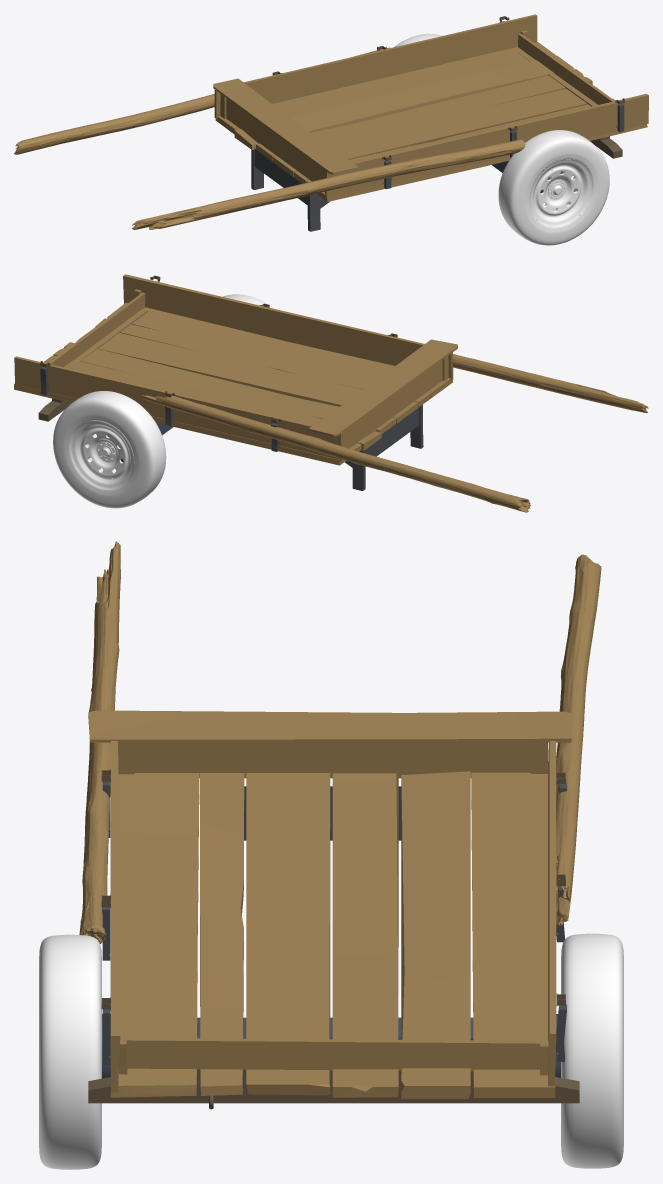
Rendered from karita.glb.
3 views of the same model, one above another, from view 1: azimuth 30°, elevation 25°; view 2: azimuth 150°, elevation 25°; view 3: azimuth 270°, elevation 25° (orthographic). The views are drawn at different scales.
Visible parts, largest first — view 1: body_1, Plane.001, body_3, body_2, body_5, wood_stick_04, wood_stick_04.001, body_4, base_3, base_4.001, base_4; view 2: body_1, Plane.003, body_2, body_5, body_3, wood_stick_04.001, wood_stick_04, body_4, base_3, base_4.001, base_4; view 3: body_1, body_5, Plane.001, Plane.003, body_4, wood_stick_04, wood_stick_04.001, base_4, body_3, body_2, base_4.001.
Part boxes in pixels (x1=…): body_1: x1=215, y1=42, x2=647, y2=201; Plane.001: x1=498, y1=130, x2=609, y2=245; body_3: x1=214, y1=14, x2=537, y2=118; body_2: x1=325, y1=94, x2=648, y2=198; body_5: x1=213, y1=78, x2=358, y2=192; wood_stick_04: x1=132, y1=139, x2=525, y2=229; wood_stick_04.001: x1=14, y1=47, x2=389, y2=154; body_4: x1=517, y1=30, x2=614, y2=106; base_3: x1=251, y1=149, x2=329, y2=231; base_4.001: x1=384, y1=21, x2=624, y2=189; base_4: x1=590, y1=136, x2=622, y2=158; body_1: x1=14, y1=302, x2=452, y2=465; Plane.003: x1=53, y1=391, x2=166, y2=508; body_2: x1=123, y1=274, x2=453, y2=380; body_5: x1=308, y1=339, x2=457, y2=448; body_3: x1=14, y1=356, x2=343, y2=462; wood_stick_04.001: x1=140, y1=395, x2=530, y2=512; wood_stick_04: x1=452, y1=354, x2=648, y2=412; body_4: x1=49, y1=289, x2=147, y2=367; base_3: x1=345, y1=404, x2=423, y2=490; base_4.001: x1=40, y1=281, x2=279, y2=451; base_4: x1=38, y1=398, x2=71, y2=421; body_1: x1=110, y1=771, x2=555, y2=1098; body_5: x1=88, y1=710, x2=573, y2=778; Plane.001: x1=39, y1=934, x2=101, y2=1169; Plane.003: x1=561, y1=933, x2=623, y2=1168; body_4: x1=119, y1=1037, x2=548, y2=1075; wood_stick_04: x1=79, y1=541, x2=120, y2=943; wood_stick_04.001: x1=556, y1=554, x2=601, y2=925; base_4: x1=88, y1=1069, x2=579, y2=1103; body_3: x1=548, y1=741, x2=556, y2=1086; body_2: x1=111, y1=741, x2=120, y2=1092; base_4.001: x1=102, y1=781, x2=567, y2=1065.
Bounding box in the file's own units: 2.5 × 0.5453 × 1.23.
